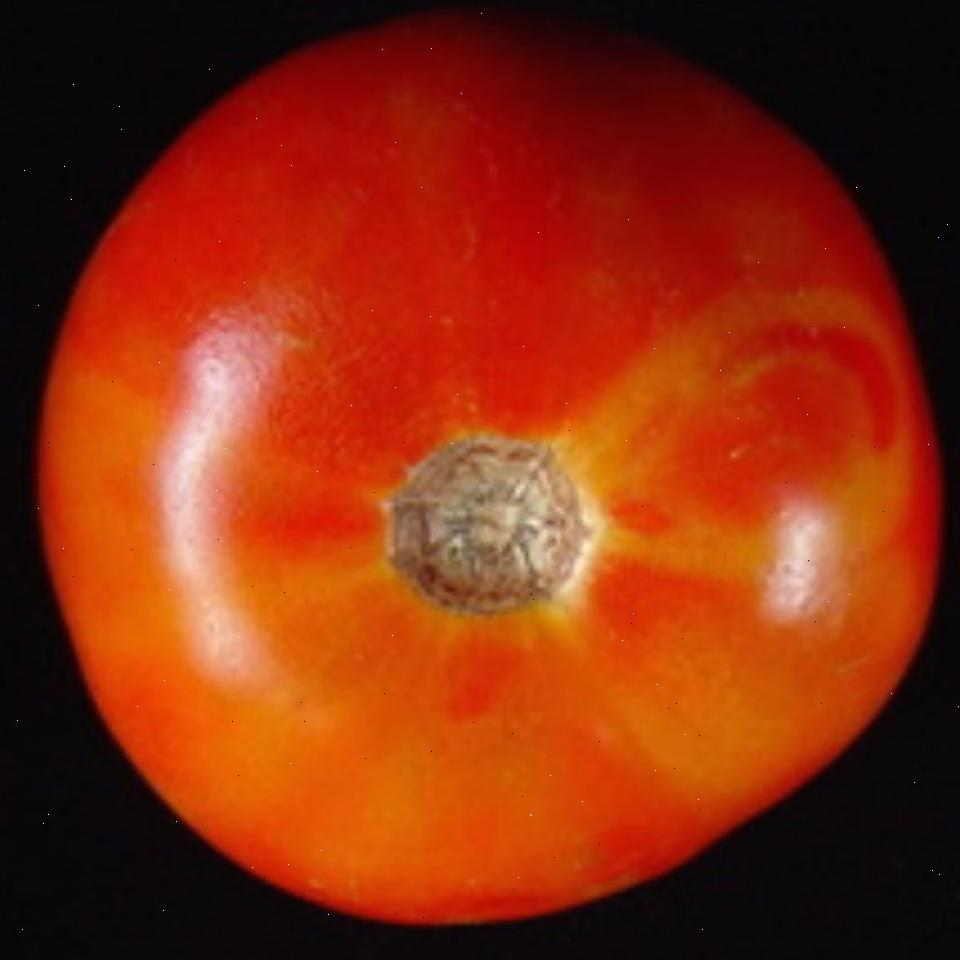Spotted wilt Virus: (40, 22, 932, 922)
